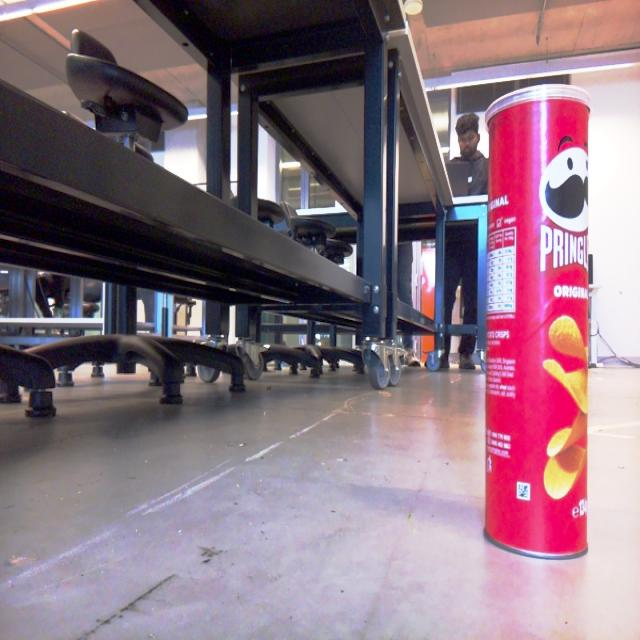redpringles: (457, 75, 611, 576)
